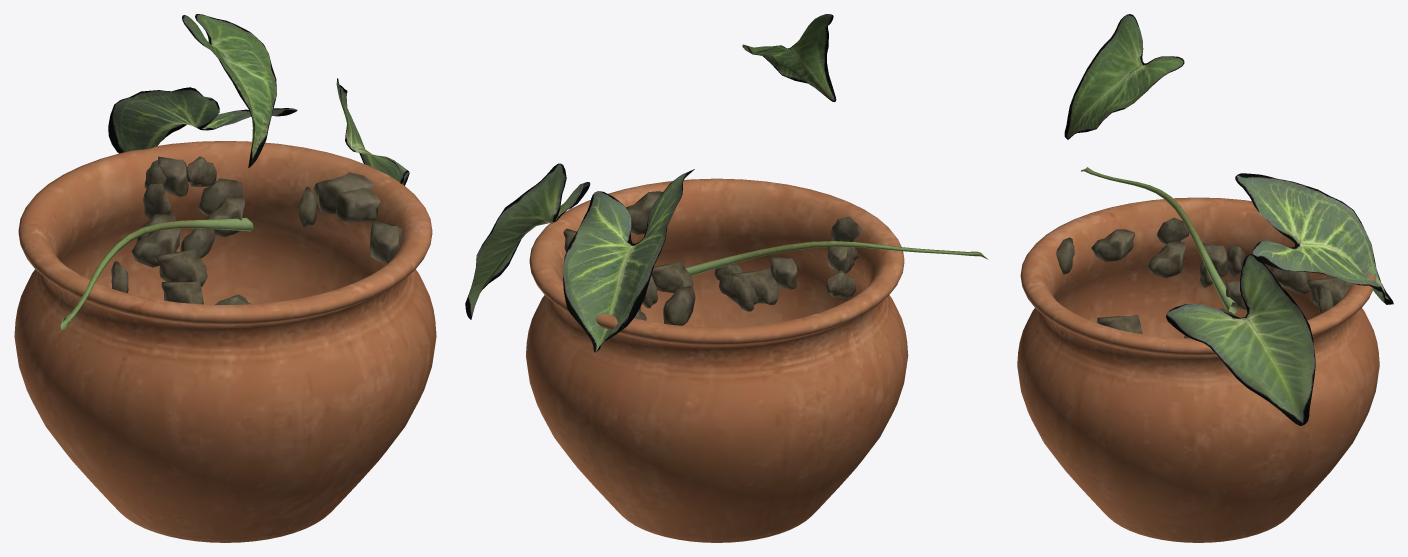
Rendered from potted_plant_02.glb.
3 views of the same model, side by side, from view 1: azimuth 30°, elevation 25°; view 2: azimuth 150°, elevation 25°; view 3: azimuth 270°, elevation 25° (orthographic). The views are drawn at different scales.
Visible parts, largest first — view 1: potted_plant_02_lod0; view 2: potted_plant_02_lod0; view 3: potted_plant_02_lod0.
Part boxes in pixels (left/top/right/bottom): potted_plant_02_lod0: left=14, top=14, right=436, bottom=542; potted_plant_02_lod0: left=465, top=14, right=988, bottom=542; potted_plant_02_lod0: left=1017, top=14, right=1393, bottom=542.
Size of what is drawn, in the model's own units: 0.5793 by 0.655 by 0.4924.
Materials: 2 (2 with a texture image).
